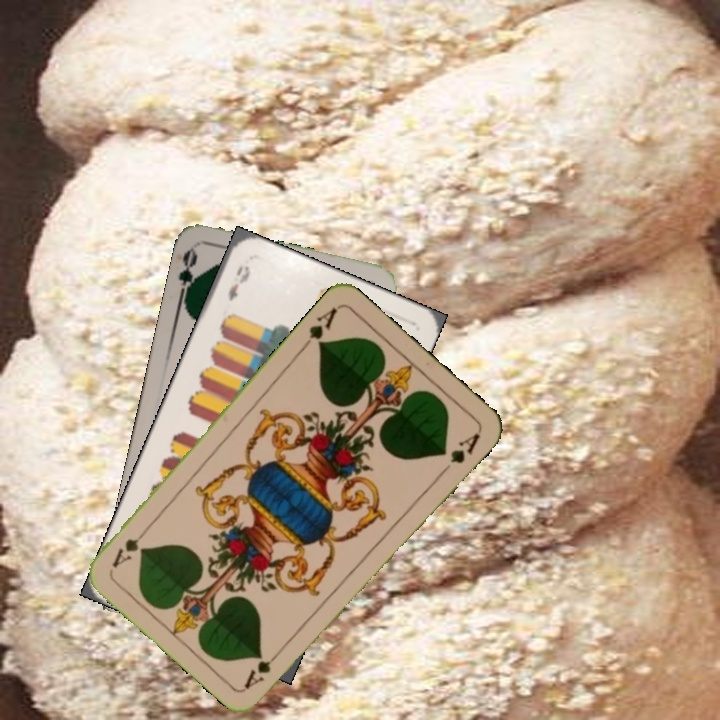E9: (224, 262, 253, 304)
GA: (240, 643, 286, 691), (298, 303, 340, 353)
GO: (174, 246, 203, 306)
